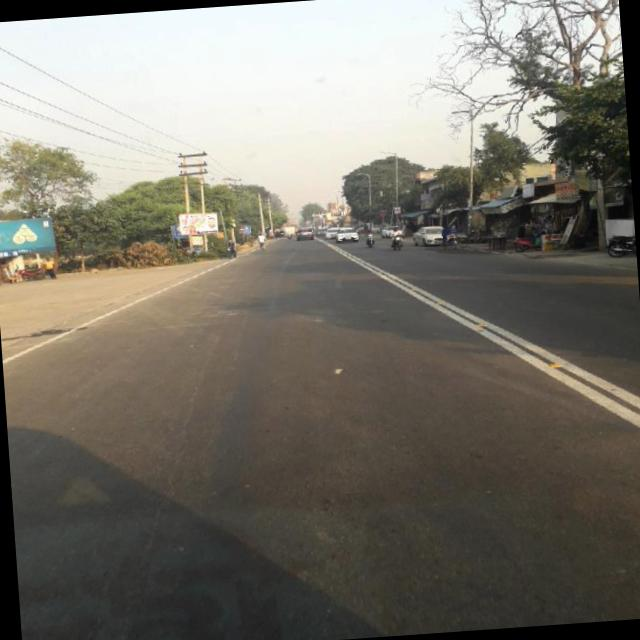pothole: (122, 316, 240, 555)
